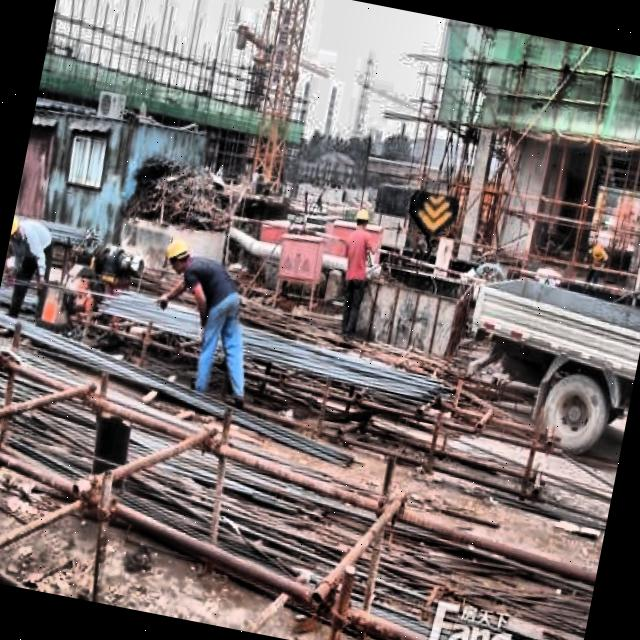helmet: (160, 236, 198, 275), (351, 205, 374, 232), (10, 213, 26, 245)
